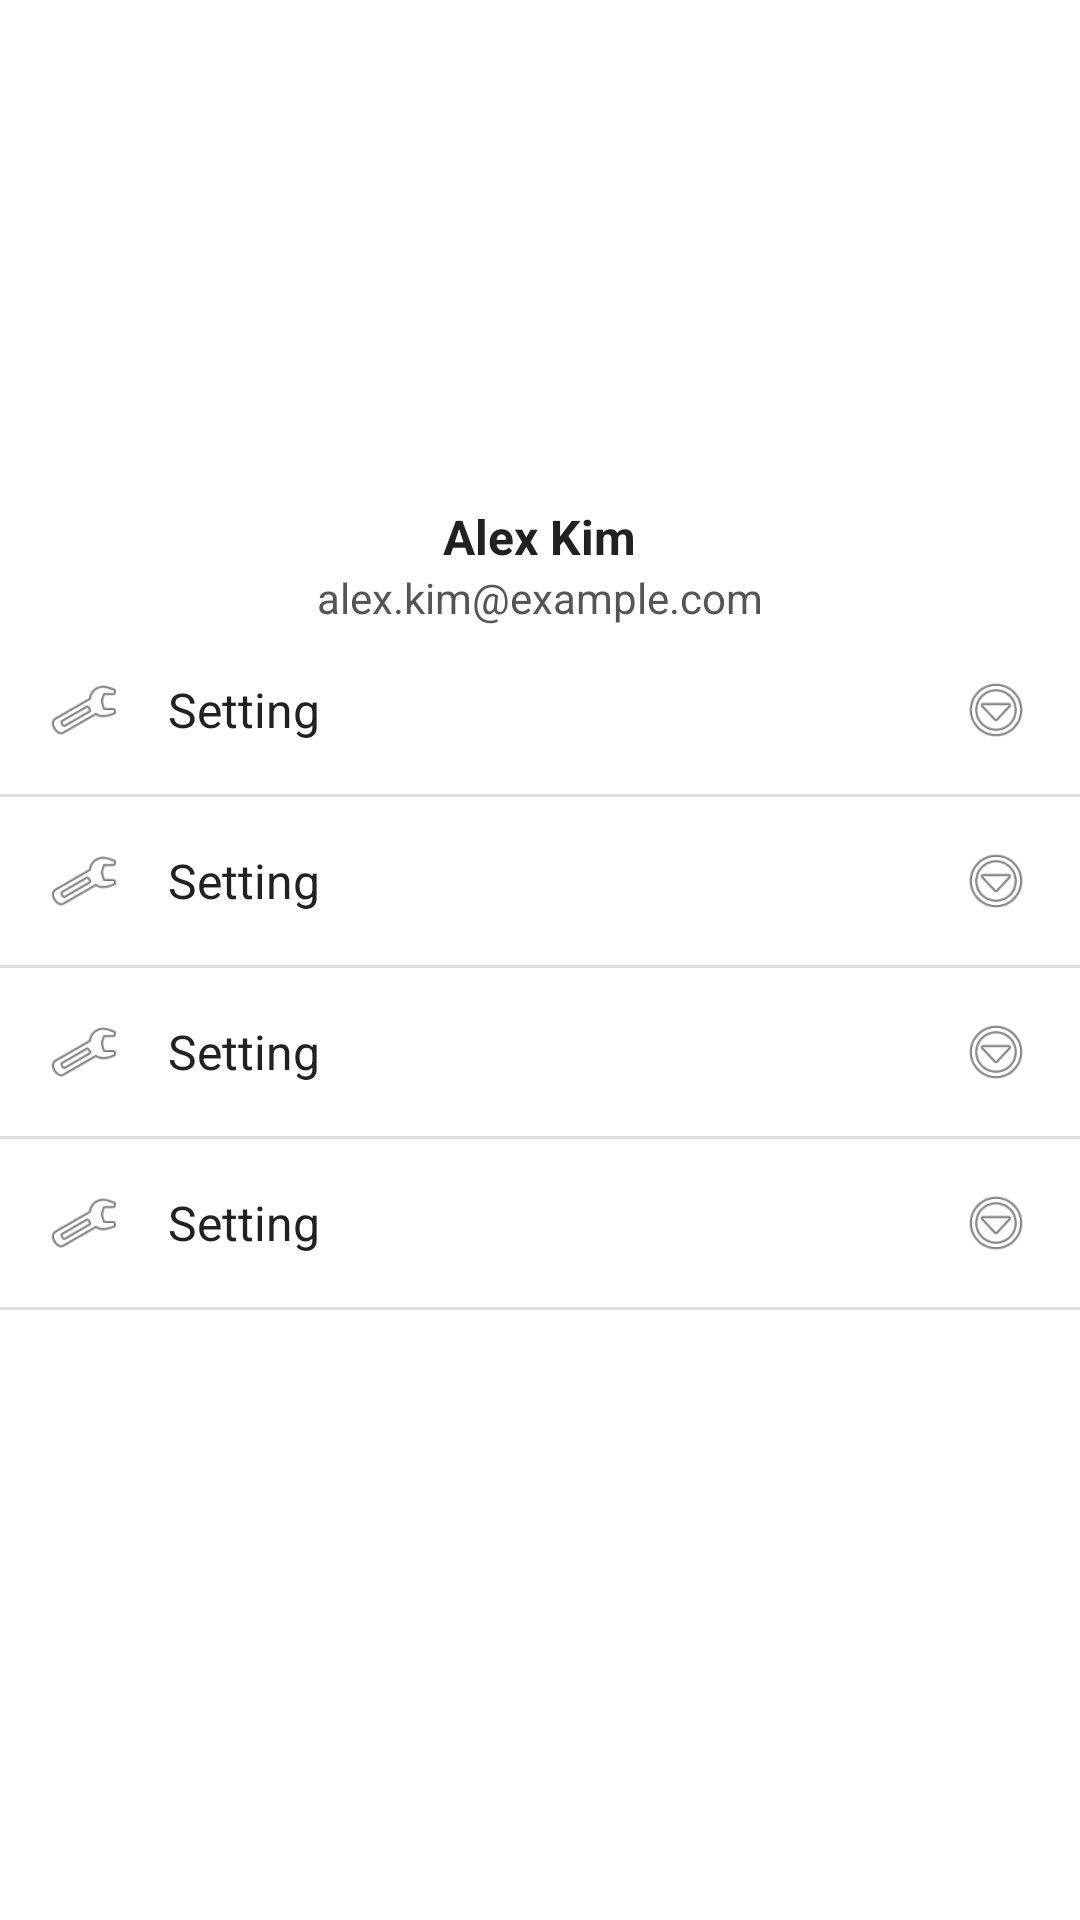

Named icons in this screenshot (1080 x 1920) and their centers, point (x, y):
manage: point (83, 710), point (83, 881), point (83, 1052), point (83, 1223)
more: point (996, 710), point (996, 881), point (996, 1052), point (996, 1223)
